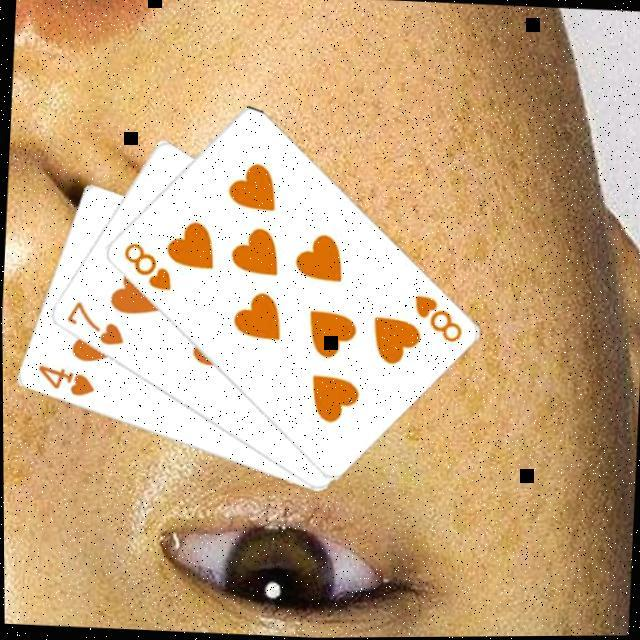4H: (34, 363, 98, 402)
7H: (63, 299, 130, 352)
8H: (119, 240, 178, 298), (410, 294, 468, 349)
